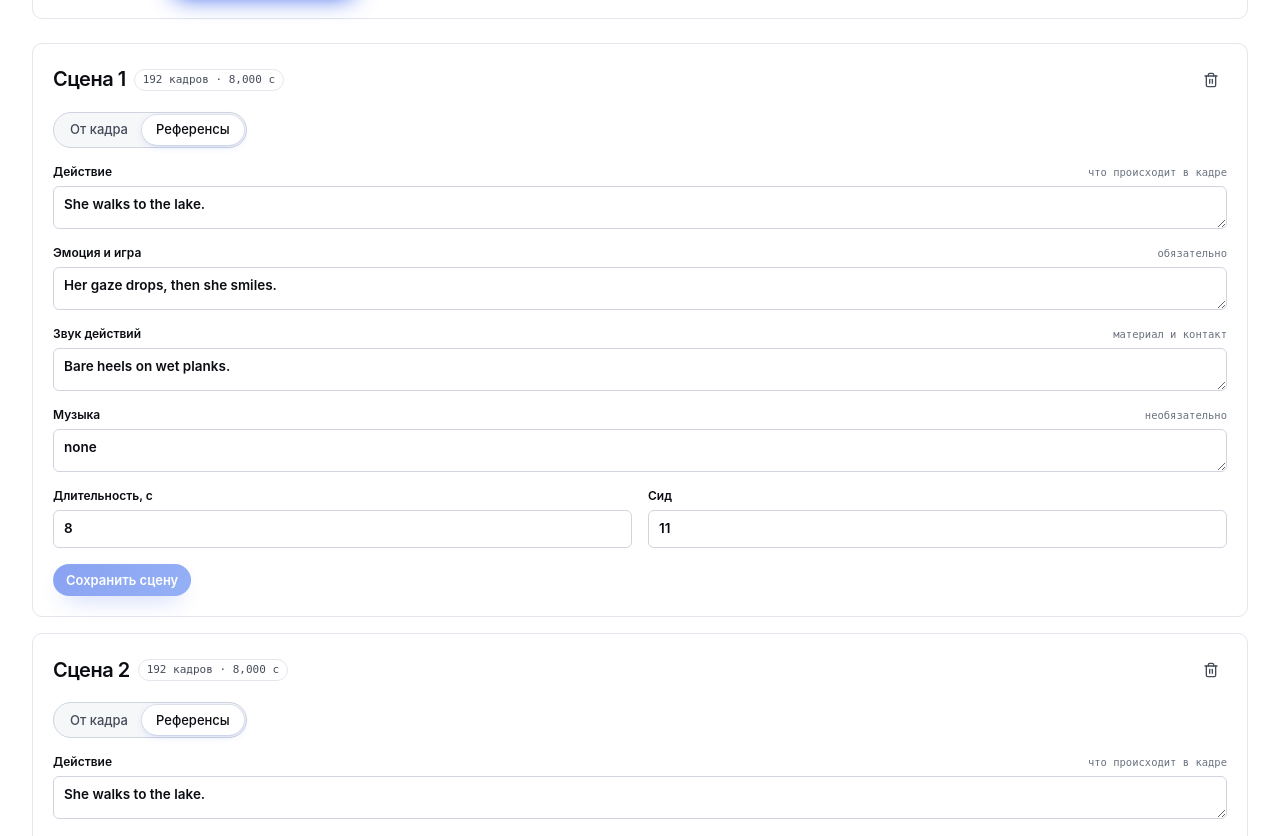
Test: ProjectScreen — snapshot, SSE, unsaved edits, conflicts › «Взять с сервера» drops my edit and shows the server's text
The width and height of the screenshot is (1280, 836).
(page scrolled)
Replace the text in the text box labelled "Музыка необязательно" with "mine". click: (640, 451)
box: [53, 429, 1227, 472]
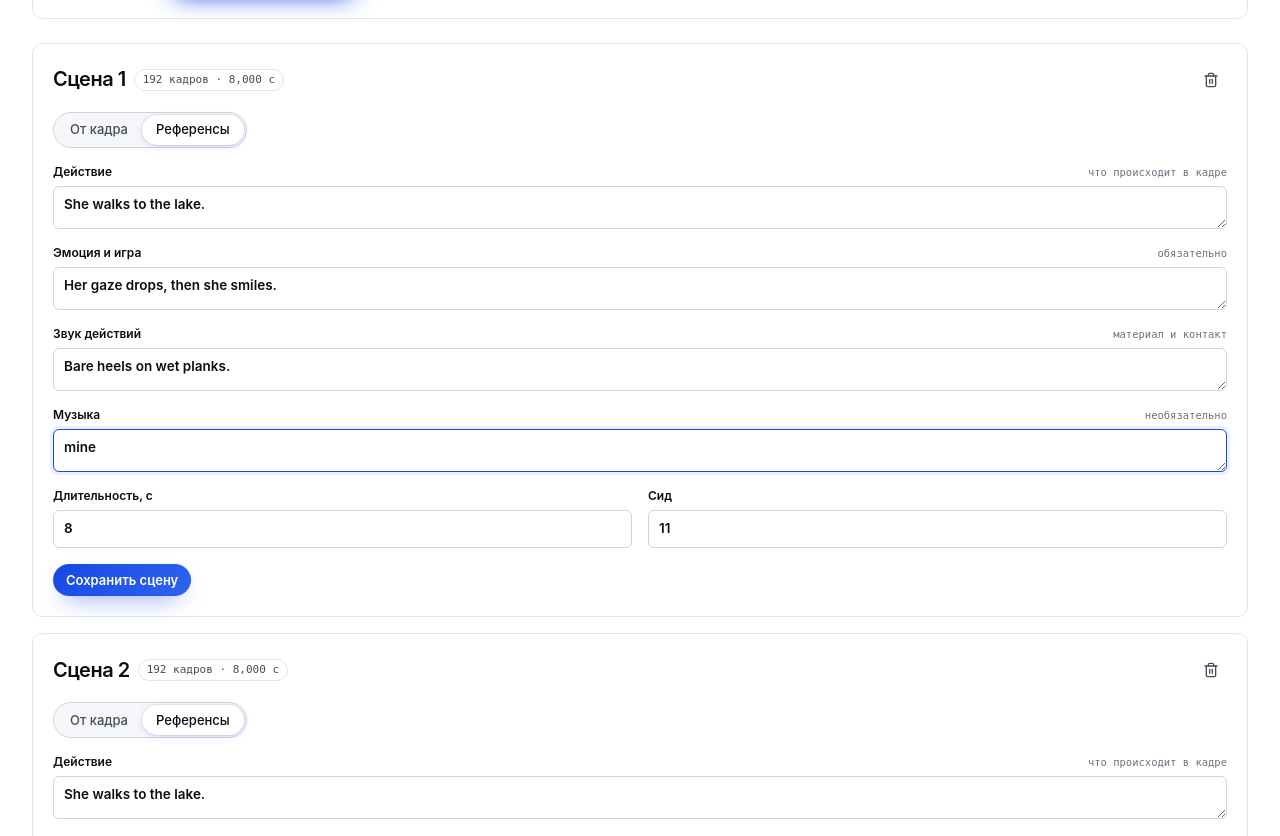
Click the button "Сохранить сцену". click: (122, 580)
box: [53, 564, 191, 596]
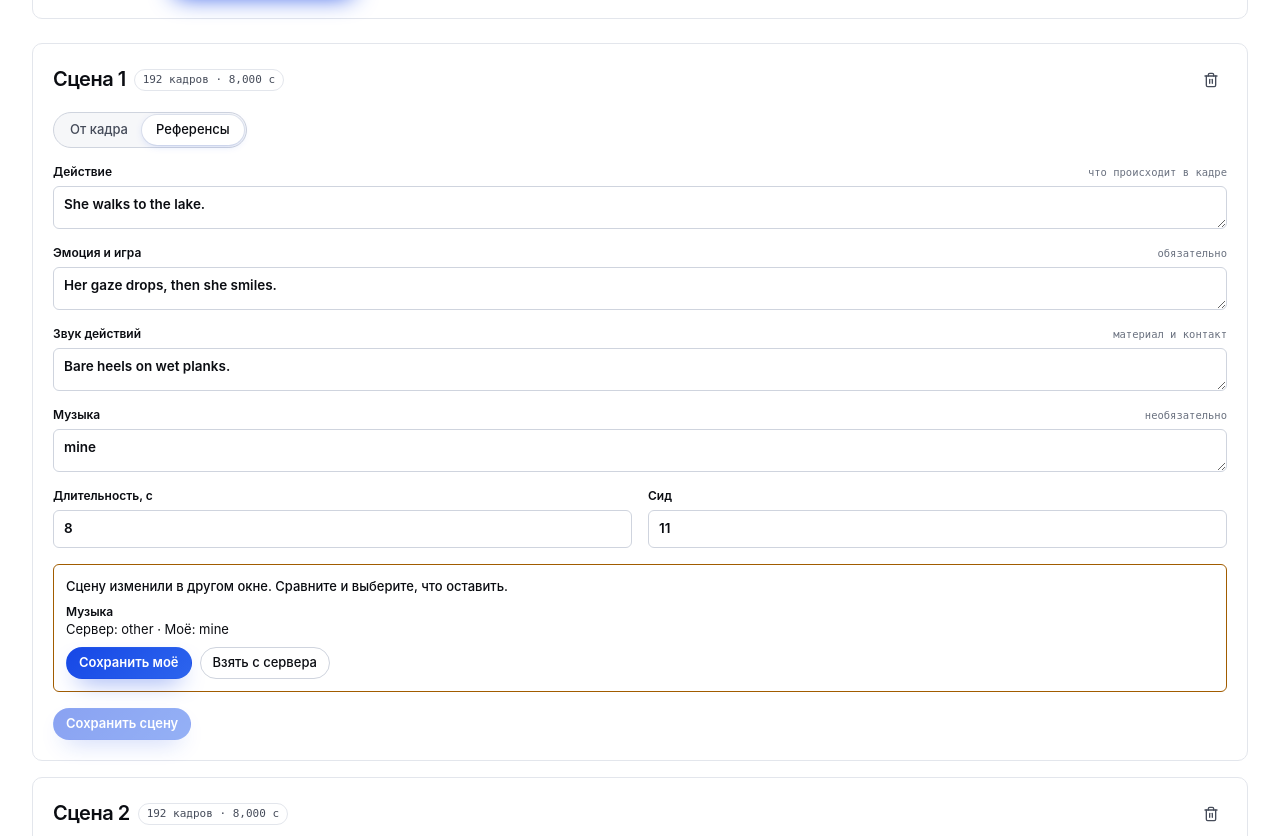
Click the button "Взять с сервера". click: (265, 663)
box: [200, 647, 330, 679]
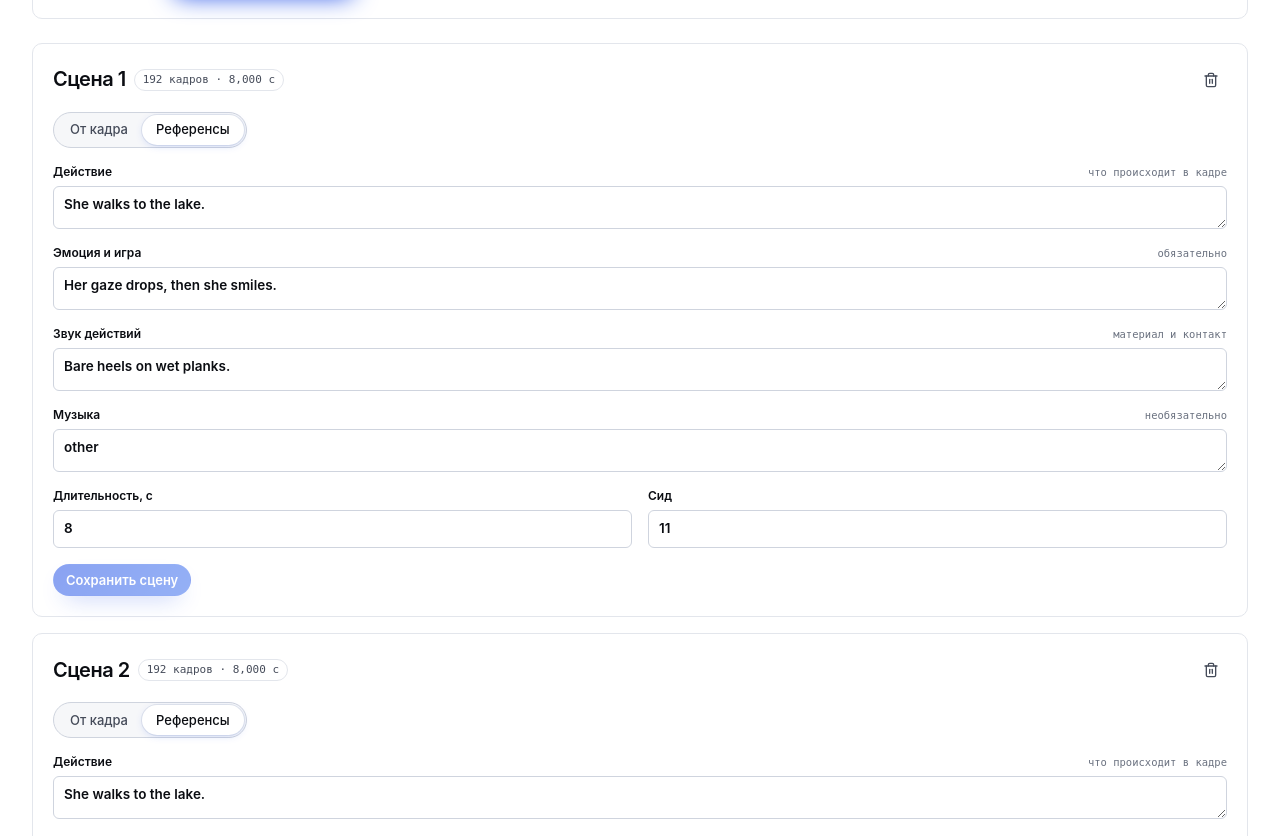
Result: the text box labelled "Музыка необязательно" holds "other" at [53, 429, 1227, 472]
